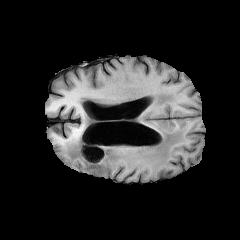glioma: (65, 92, 188, 172)
